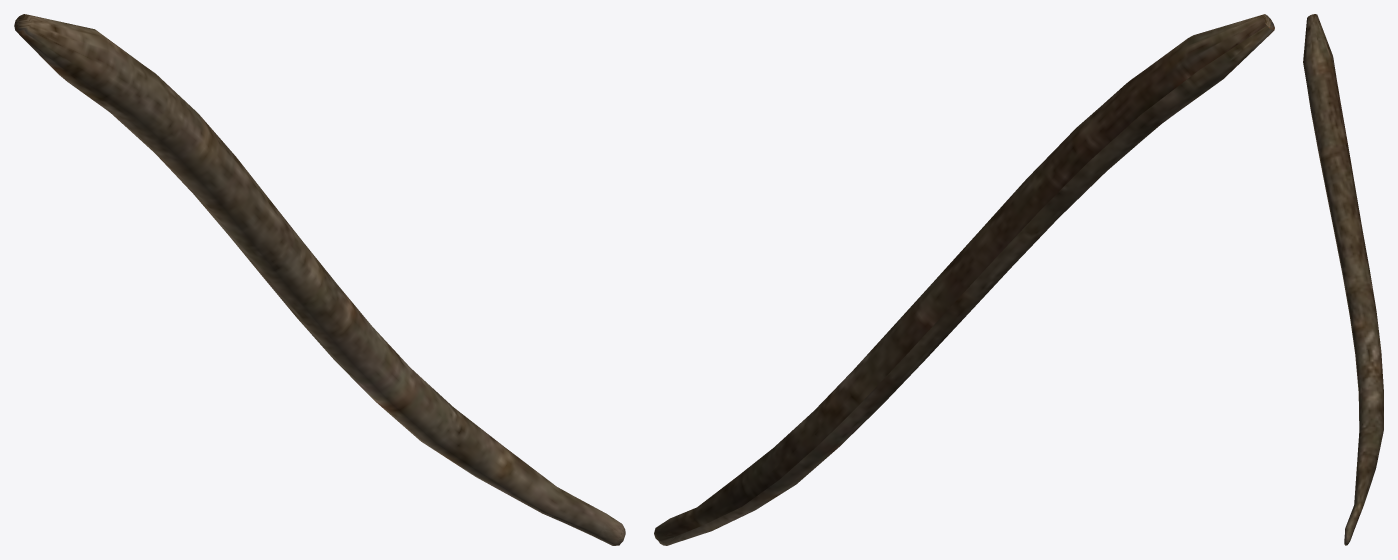
The picture shows the model from 3 angles, left to right: view 1: azimuth 30°, elevation 25°; view 2: azimuth 150°, elevation 25°; view 3: azimuth 270°, elevation 25°; orthographic projection. The views are drawn at different scales.
Visible parts, largest first — view 1: G-Line003.013; view 2: G-Line003.013; view 3: G-Line003.013.
Part boxes in pixels (bbox=[...]): G-Line003.013: bbox=[14, 14, 625, 545]; G-Line003.013: bbox=[654, 14, 1274, 545]; G-Line003.013: bbox=[1303, 14, 1383, 545].
Size of the model in its own units: 0.9648 by 1.01 by 0.1999.
Materials: 1 (1 with a texture image).
